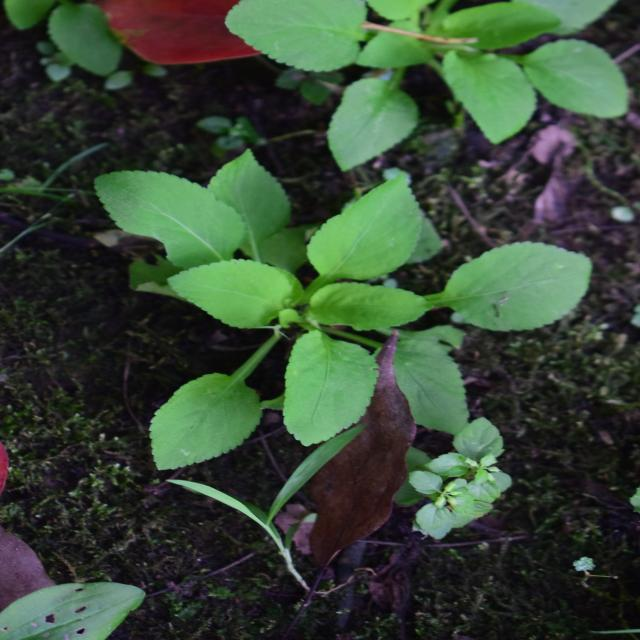Viola: (147, 51, 472, 558)
